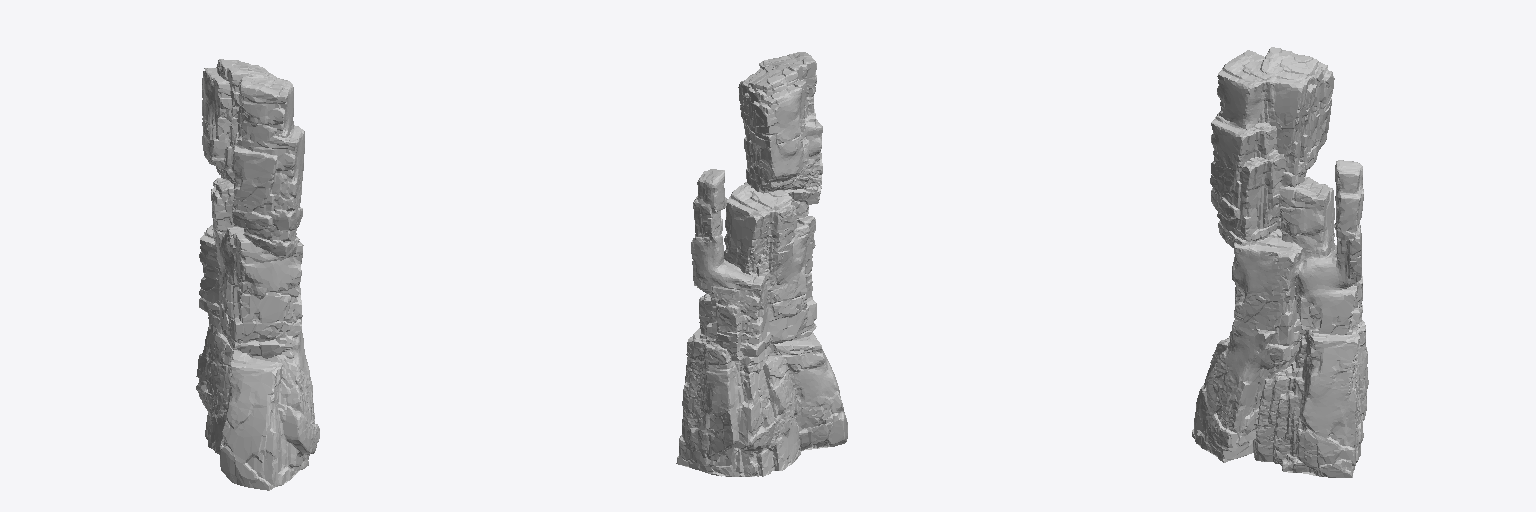
File: stones.obj
3 views of the same model, side by side, from view 1: azimuth 30°, elevation 25°; view 2: azimuth 150°, elevation 25°; view 3: azimuth 270°, elevation 25° (orthographic).
Parts seen in each view (by area): view 1: Group56654; view 2: Group56654; view 3: Group56654.
Part boxes in pixels (x1,y1,x2,y2): Group56654: (196, 59, 319, 490); Group56654: (676, 52, 847, 476); Group56654: (1192, 47, 1368, 477).
Size of the model in its own units: 19.41 by 64.43 by 26.52.